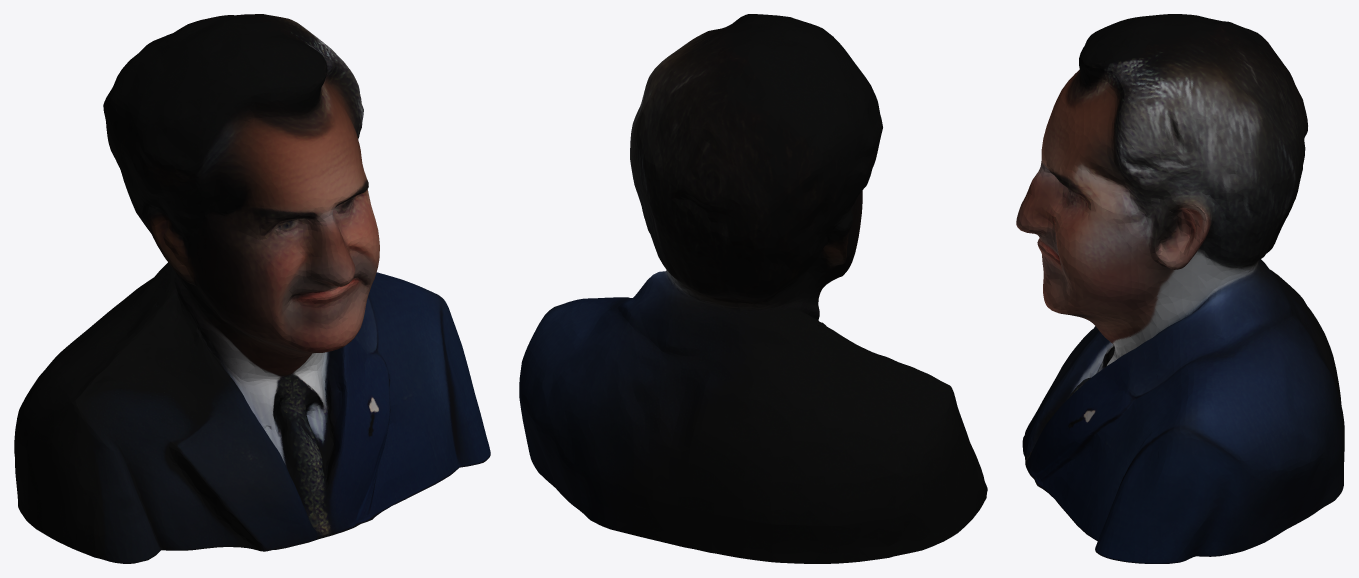
File: nixon.glb
The picture shows the model from 3 angles, left to right: view 1: azimuth 30°, elevation 25°; view 2: azimuth 150°, elevation 25°; view 3: azimuth 270°, elevation 25°; orthographic projection. The views are drawn at different scales.
Parts seen in each view (by area): view 1: world; view 2: world; view 3: world.
Boxes of the visible parts, x1,y1,x2,y2 form: world: [14, 14, 490, 563]; world: [519, 14, 987, 563]; world: [1016, 14, 1344, 563].
Bounding box in the file's own units: 0.9885 × 0.9989 × 0.684.
Materials: 1 (1 with a texture image).
